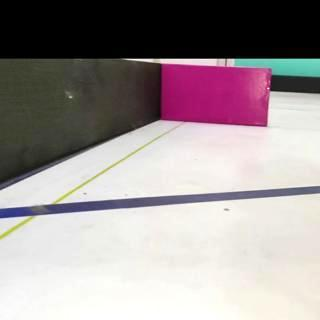xparking: (169, 66, 267, 126)
